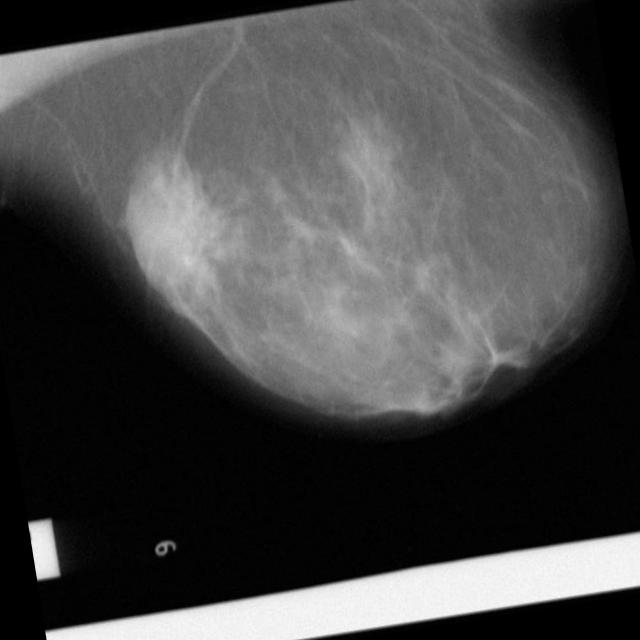ARCH: (168, 192, 257, 280)
